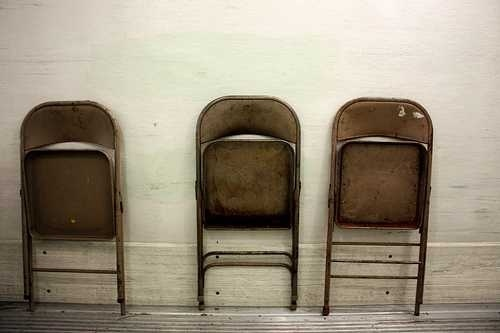obstacle: (323, 98, 432, 314), (20, 101, 125, 313), (196, 96, 299, 309)
